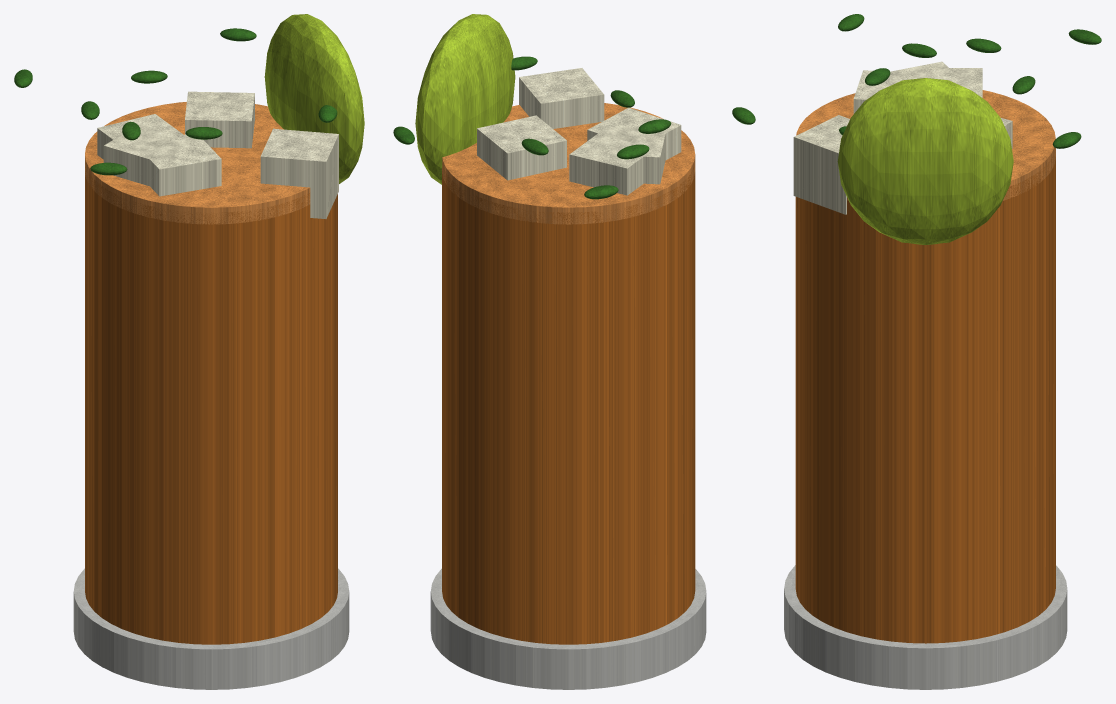
The model's file is panela-dorada.glb.
3 renders of one model, left to right at view 1: azimuth 30°, elevation 25°; view 2: azimuth 150°, elevation 25°; view 3: azimuth 270°, elevation 25°, orthographic. The views are drawn at different scales.
Visible parts, largest first — view 1: part1, part3, part0, part2, part4, part5; view 2: part1, part3, part0, part2, part4, part5; view 3: part1, part4, part0, part3, part2, part5.
Boxes of the visible parts, x1,y1,x2,y2 form: part1: [85, 162, 337, 644]; part3: [97, 91, 338, 218]; part0: [73, 568, 349, 689]; part2: [85, 102, 310, 224]; part4: [264, 14, 364, 183]; part5: [14, 28, 337, 175]; part1: [442, 167, 695, 644]; part3: [477, 68, 681, 195]; part0: [430, 568, 706, 689]; part2: [442, 103, 695, 224]; part4: [415, 14, 515, 184]; part5: [393, 56, 755, 199]; part1: [795, 156, 1055, 643]; part4: [837, 78, 1013, 245]; part0: [784, 565, 1067, 689]; part3: [793, 61, 1012, 214]; part2: [796, 90, 1055, 200]; part5: [838, 14, 1101, 148].
Bounding box in the file's own units: 0.0875 × 0.174 × 0.083.
Materials: 6 (6 with a texture image).
